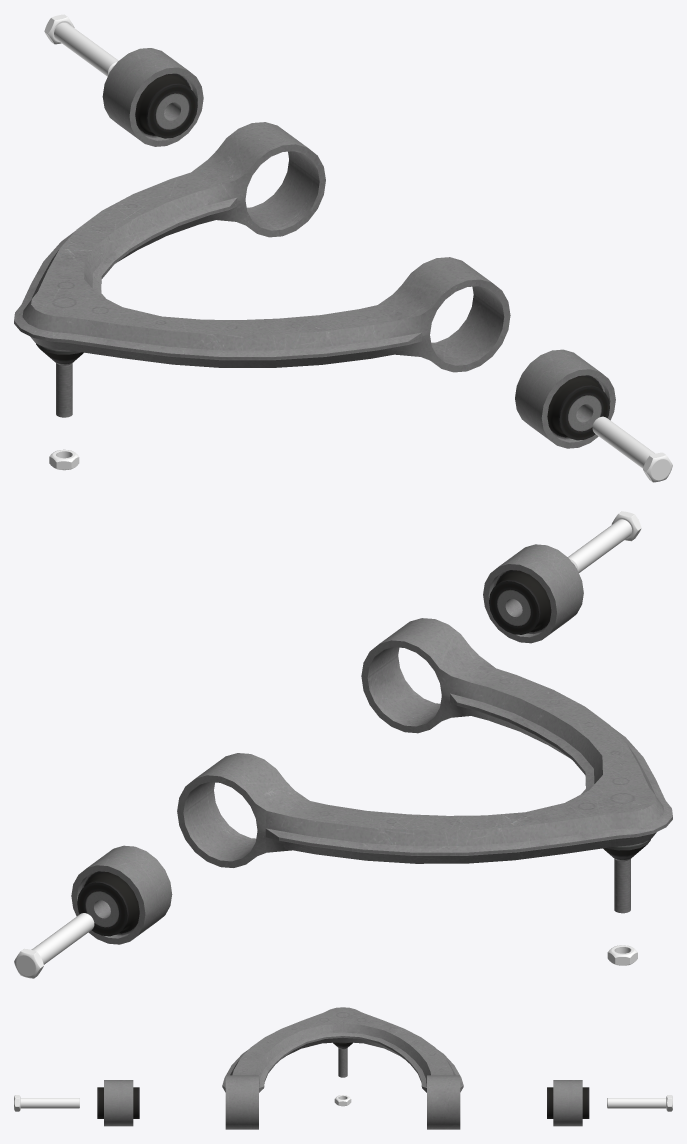
Rendered from conTop.glb.
The picture shows the model from 3 angles, top to bottom: view 1: azimuth 30°, elevation 25°; view 2: azimuth 150°, elevation 25°; view 3: azimuth 270°, elevation 25°; orthographic projection. The views are drawn at different scales.
Parts seen in each view (by area): view 1: wahaczGora_double(0), tuleja_1(1), tuleja_1(2), srubaTuleje_1, Obj_srubaTuleje_1; view 2: wahaczGora_double(0), tuleja_1(2), tuleja_1(1), Obj_srubaTuleje_1, srubaTuleje_1; view 3: wahaczGora_double(0), tuleja_1(1), tuleja_1(2), srubaTuleje_1, Obj_srubaTuleje_1.
Part boxes in pixels (x1,y1,x2,y2): wahaczGora_double(0): (14,122,510,417); tuleja_1(1): (102,48,203,146); tuleja_1(2): (515,349,615,448); srubaTuleje_1: (592,416,672,482); Obj_srubaTuleje_1: (44,14,118,76); wahaczGora_double(0): (177,618,672,913); tuleja_1(2): (483,544,583,643); tuleja_1(1): (71,845,172,944); Obj_srubaTuleje_1: (14,913,94,978); srubaTuleje_1: (568,511,641,572); wahaczGora_double(0): (222,1007,463,1129); tuleja_1(1): (547,1080,589,1126); tuleja_1(2): (97,1080,139,1126); srubaTuleje_1: (14,1095,79,1111); Obj_srubaTuleje_1: (607,1095,672,1111).
Bounding box in the file's own units: 0.00878 × 0.0042 × 0.024.
Materials: 3 (2 with a texture image).
